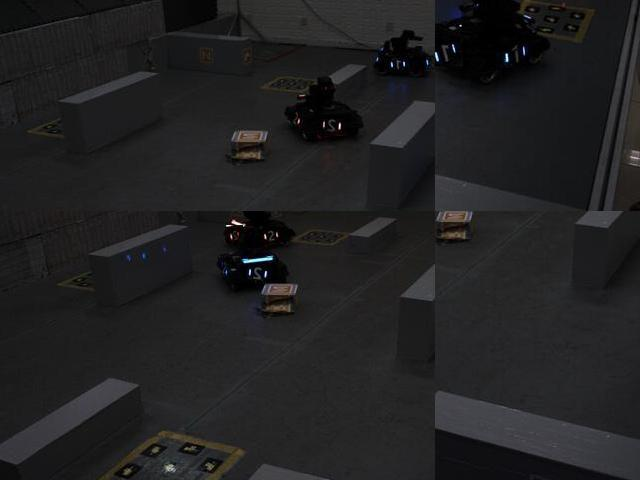armor: (497, 39, 532, 71), (435, 38, 465, 68), (320, 115, 348, 137), (244, 267, 274, 283), (259, 226, 280, 246), (226, 225, 244, 244), (389, 57, 409, 72), (290, 110, 302, 129)
